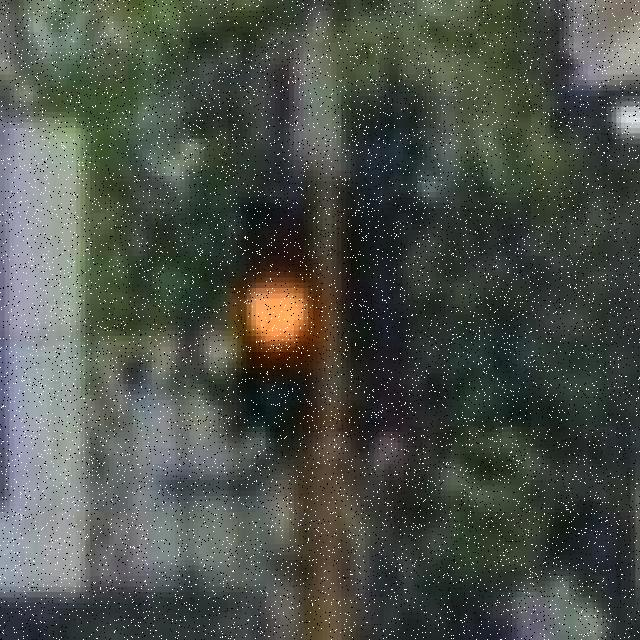Zolte swiatlo: (237, 188, 327, 432)
